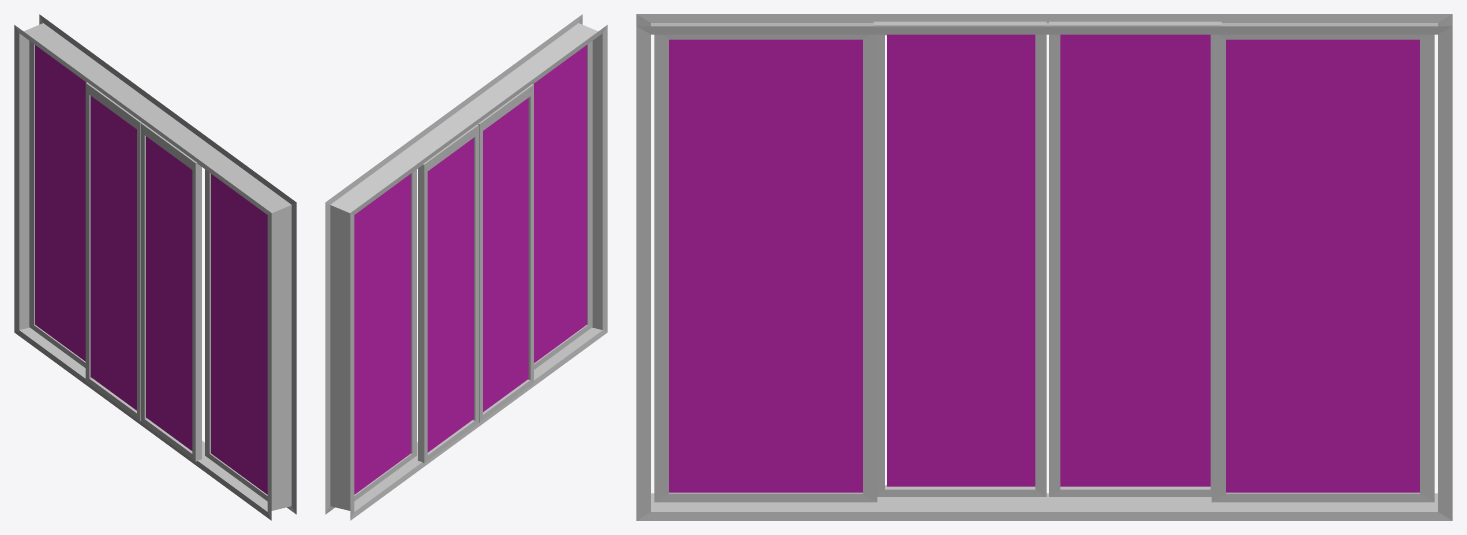
Rendered from Buildings02_double_door.fbx.
The picture shows the model from 3 angles, left to right: view 1: azimuth 30°, elevation 25°; view 2: azimuth 150°, elevation 25°; view 3: azimuth 270°, elevation 25°; orthographic projection. The views are drawn at different scales.
Visible parts, largest first — view 1: Cube.000, Cube.003; view 2: Cube.000, Cube.003; view 3: Cube.000, Cube.003.
Part boxes in pixels (x1,y1,x2,y2): Cube.000: [14, 14, 296, 520]; Cube.003: [85, 81, 201, 461]; Cube.000: [325, 14, 607, 520]; Cube.003: [418, 83, 533, 463]; Cube.000: [636, 14, 1452, 520]; Cube.003: [873, 21, 1221, 496].
Bounding box in the file's own units: 26.47 × 301 × 450.
